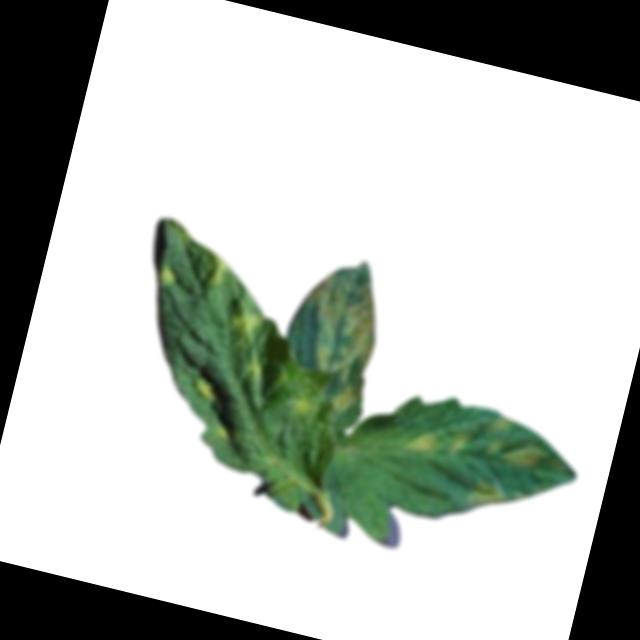Leaf_Mold: (278, 253, 398, 421), (480, 413, 554, 471), (401, 415, 472, 466), (222, 304, 276, 353), (464, 478, 511, 516), (237, 348, 276, 389), (199, 250, 235, 292), (284, 388, 323, 426), (153, 261, 187, 290), (194, 374, 225, 402)
